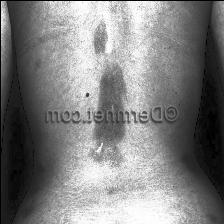Unclassified: (98, 66, 124, 106), (171, 149, 191, 175), (90, 26, 108, 54)
